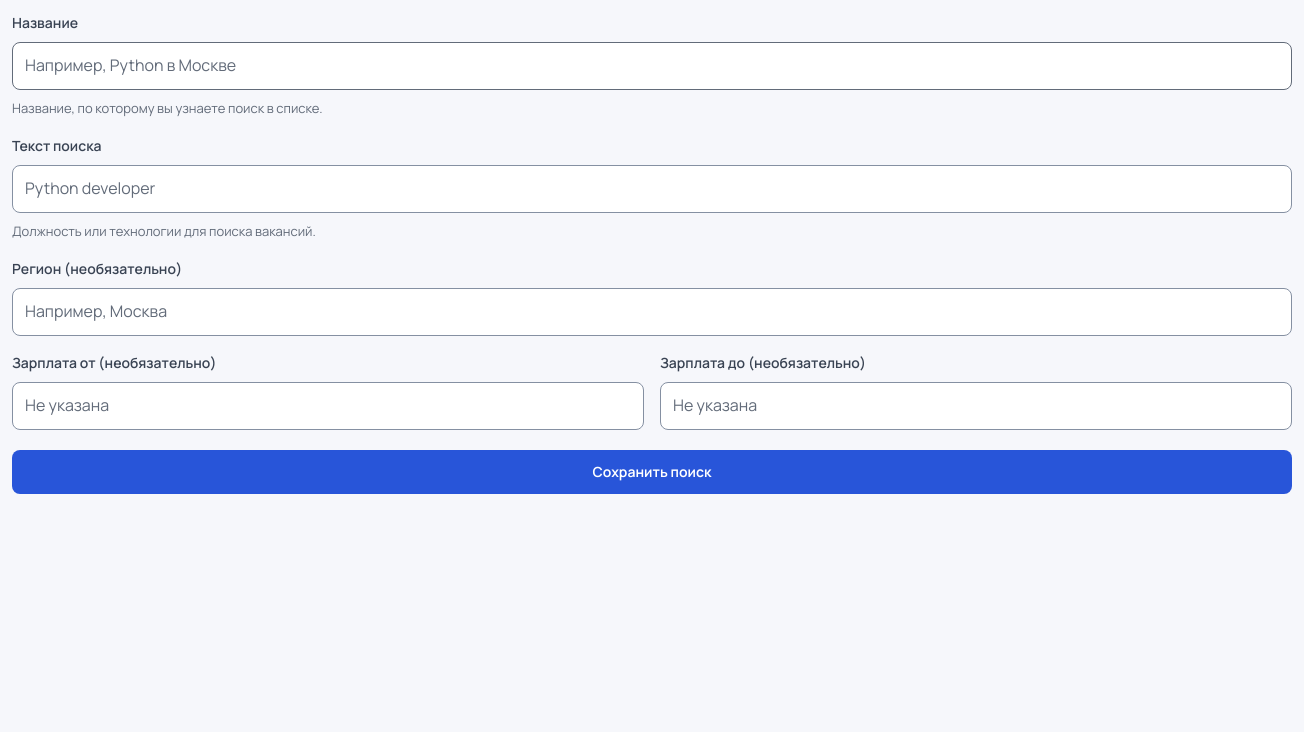
SavedSearchForm › rejects invalid salary bounds -1 /
In the field named "name": (652, 66) [12,42,1292,90], type "Python"
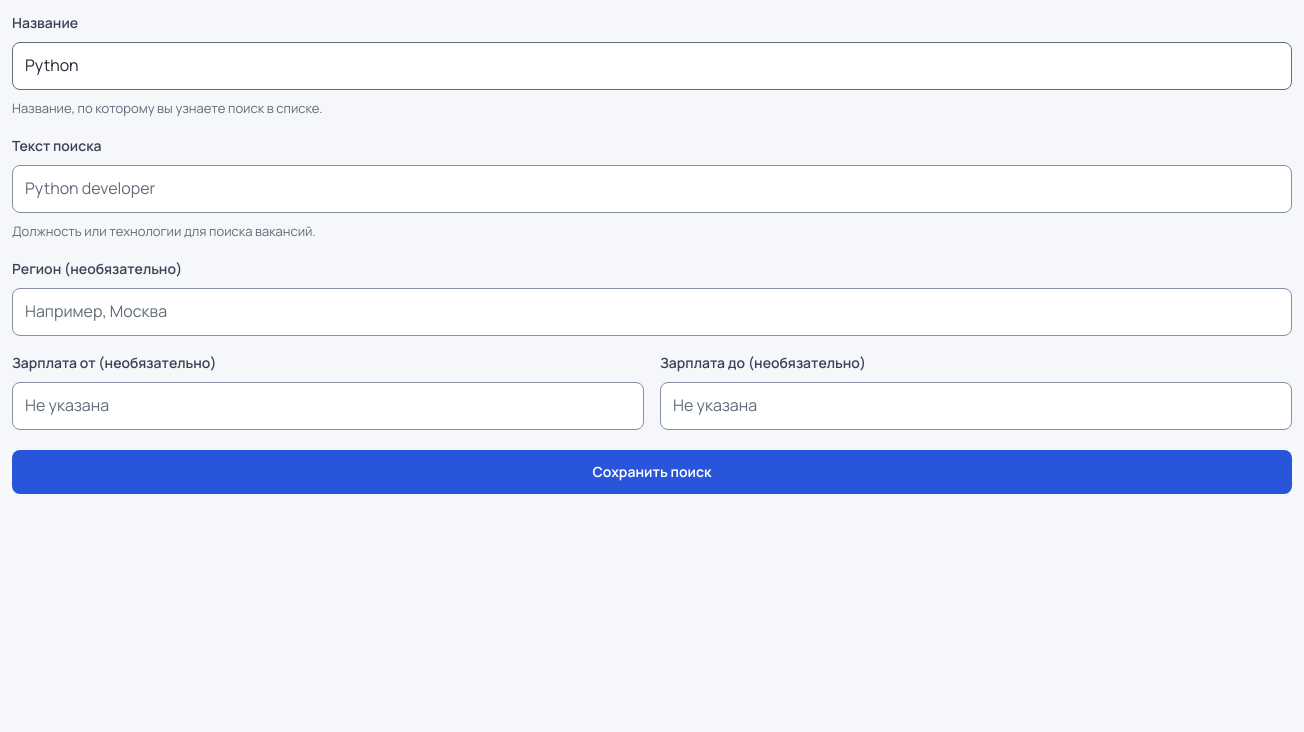
In the field named "text": (652, 189) [12,165,1292,213], type "python"
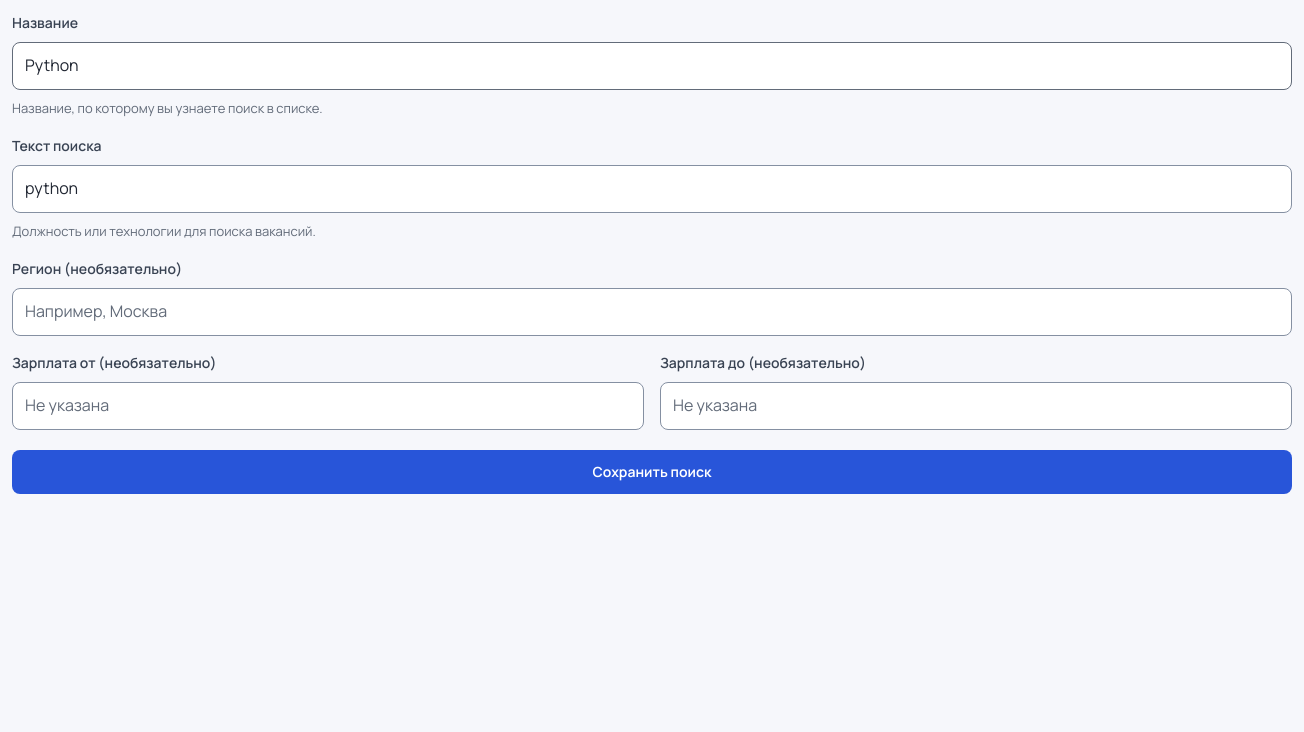
In the number field named "min_salary": (328, 406) [12,382,644,430], type "-1"
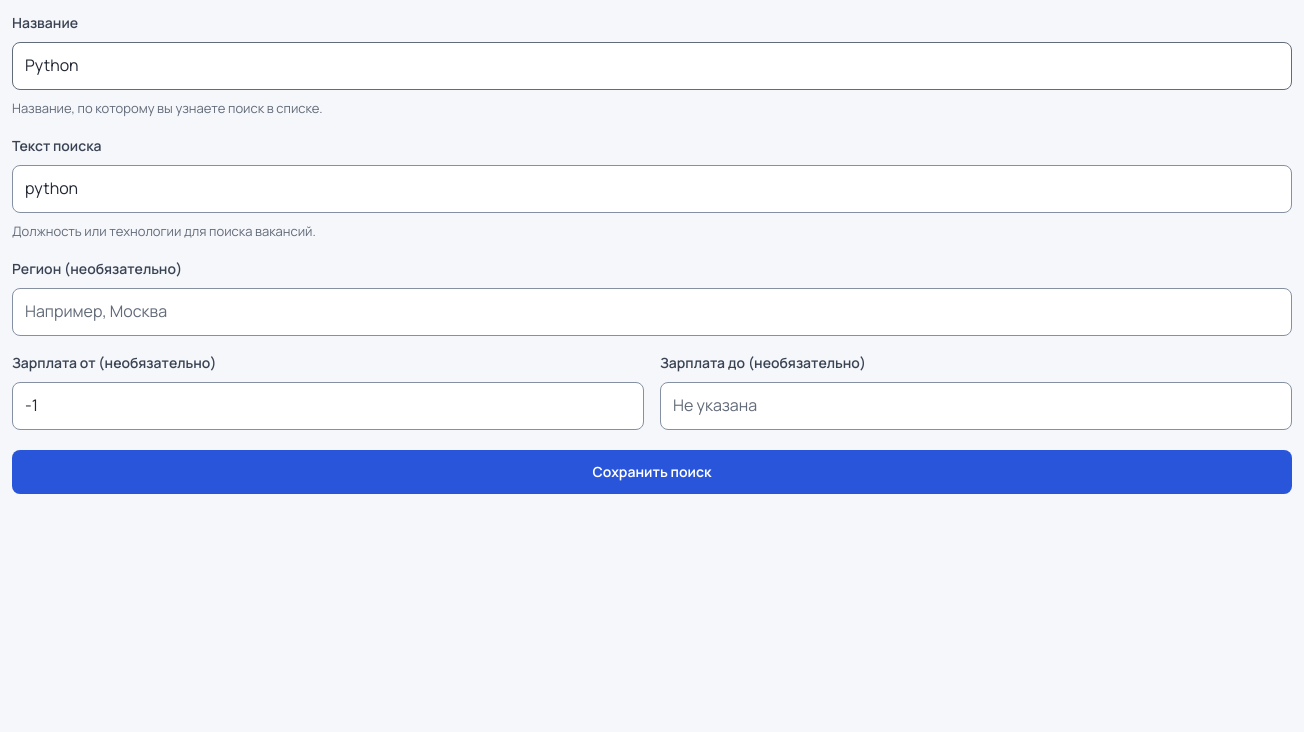
Submit the form
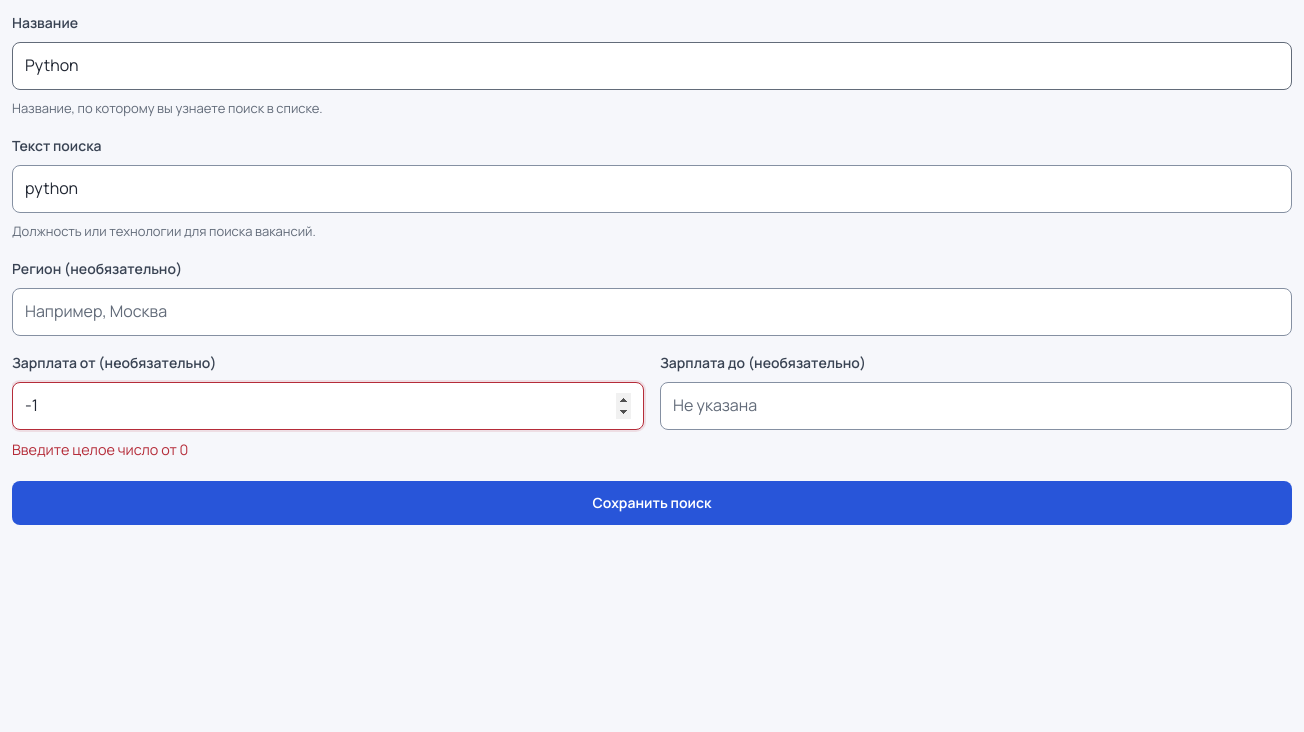
Check: the form shows "Введите целое число от 0", box [12,440,188,458]
